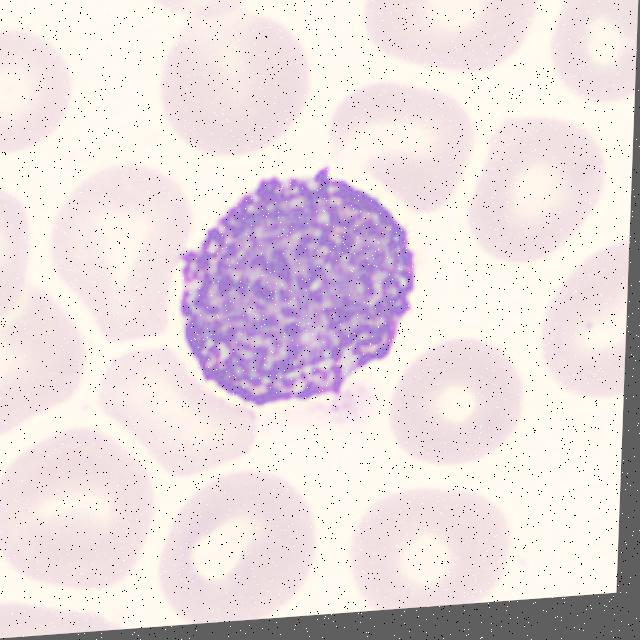basophil: (171, 173, 424, 415)
rbc: (88, 337, 276, 497), (35, 143, 182, 338), (153, 470, 328, 627), (0, 428, 160, 591), (446, 121, 609, 270), (351, 472, 516, 612), (143, 18, 305, 158), (378, 327, 522, 484), (331, 76, 470, 233), (509, 252, 629, 407), (354, 0, 533, 92), (0, 21, 88, 169), (0, 297, 89, 432), (537, 0, 639, 114), (0, 593, 147, 640), (0, 176, 34, 331), (124, 0, 254, 33)
